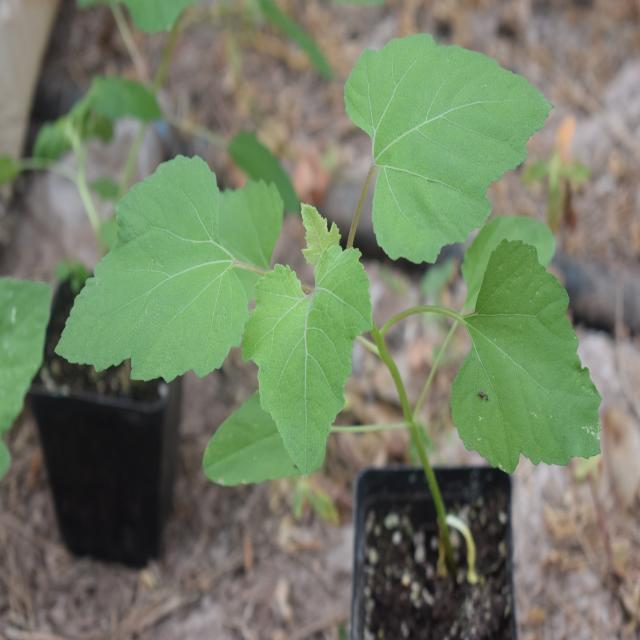cocklebur: (99, 74, 616, 482)
